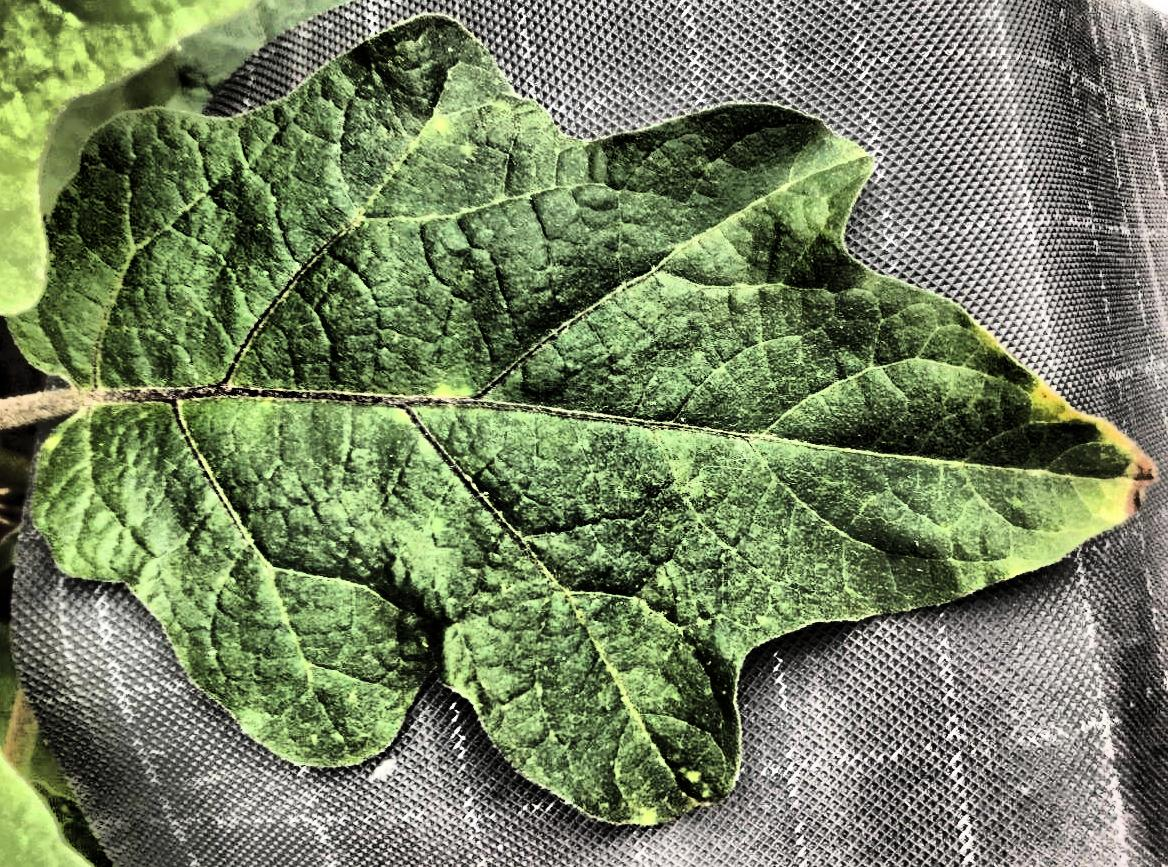Non-critical Stress: (1, 0, 1168, 867)
